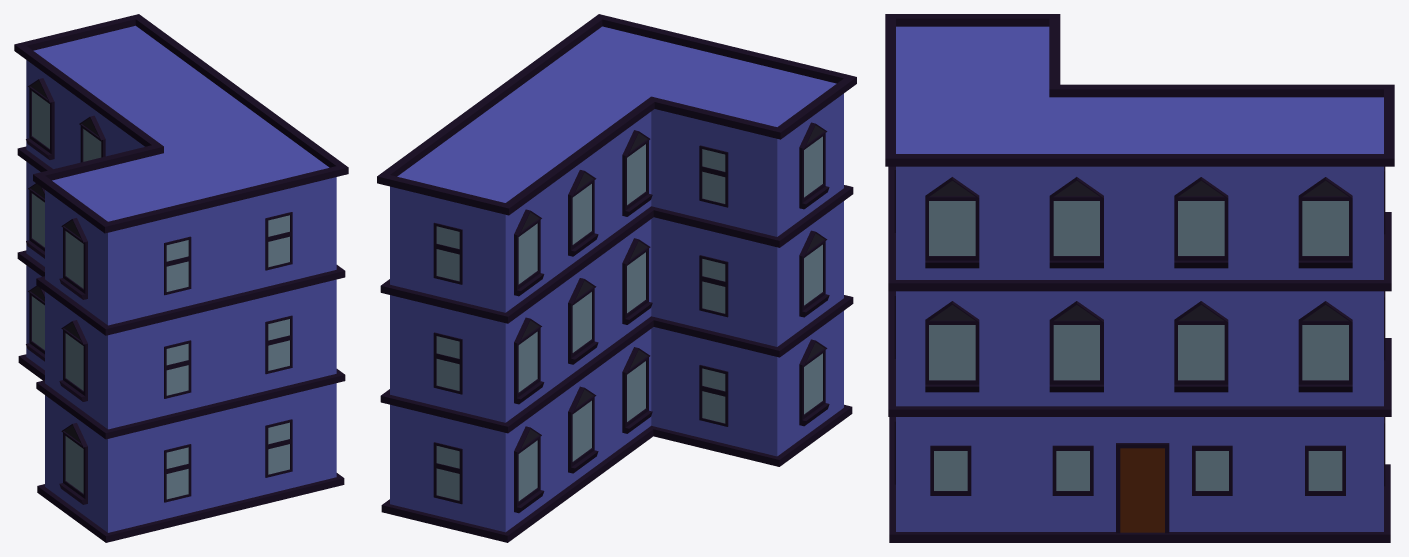
The model's file is L purple.fbx.
The picture shows the model from 3 angles, left to right: view 1: azimuth 30°, elevation 25°; view 2: azimuth 150°, elevation 25°; view 3: azimuth 270°, elevation 25°; orthographic projection. The views are drawn at different scales.
Parts seen in each view (by area): view 1: L purple; view 2: L purple; view 3: L purple.
Boxes of the visible parts, x1,y1,x2,y2 form: L purple: (14, 14, 348, 542); L purple: (377, 14, 856, 542); L purple: (885, 14, 1394, 542).
Bounding box in the file's own units: 7.57 × 9.43 × 11.27.
